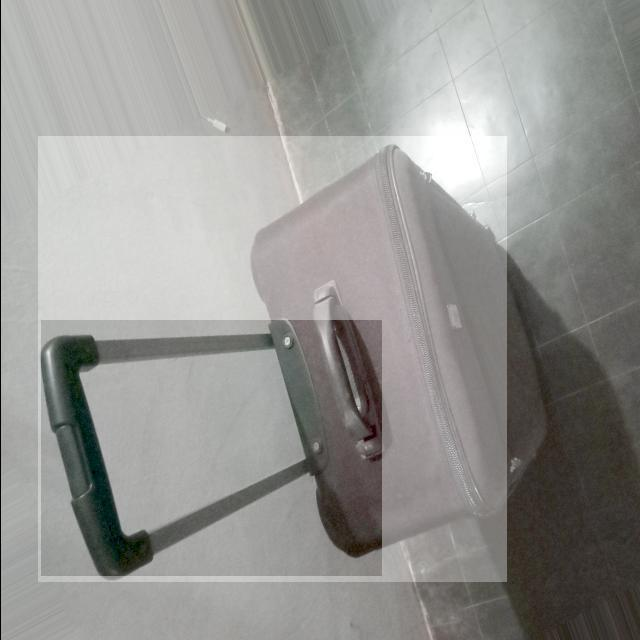Suitcase: (37, 137, 506, 579)
